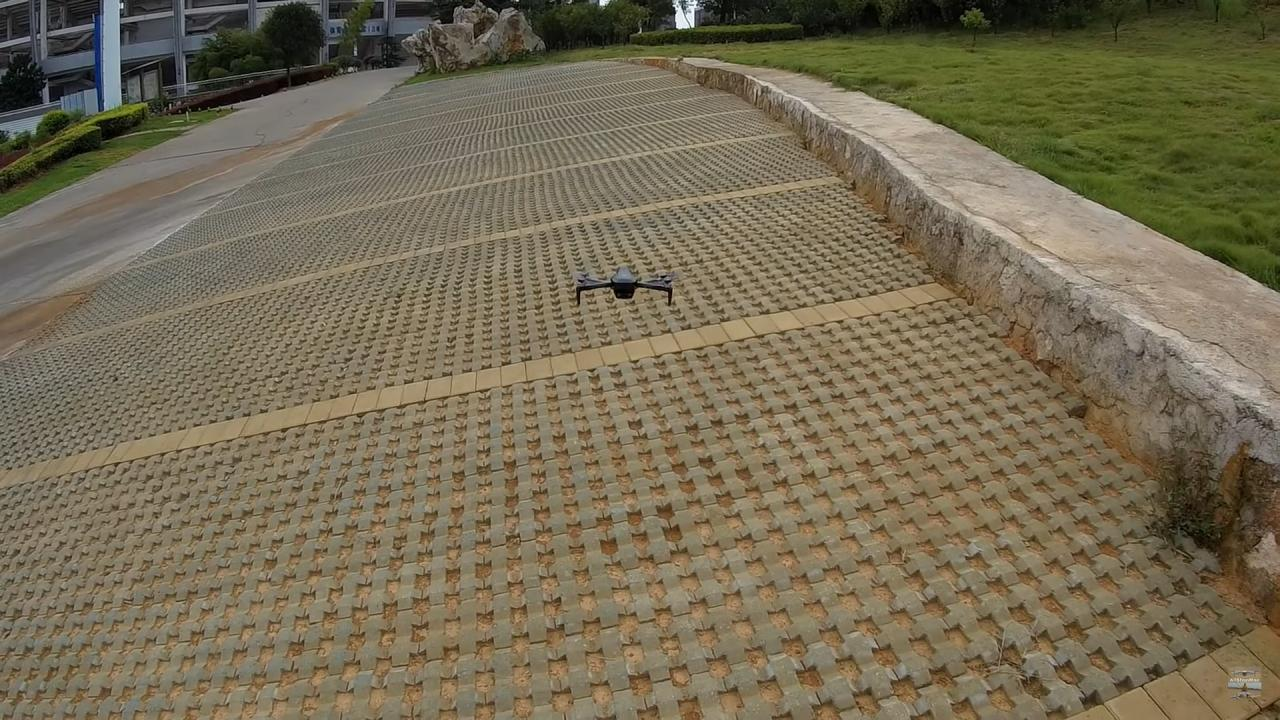Drone: (558, 258, 690, 319)
